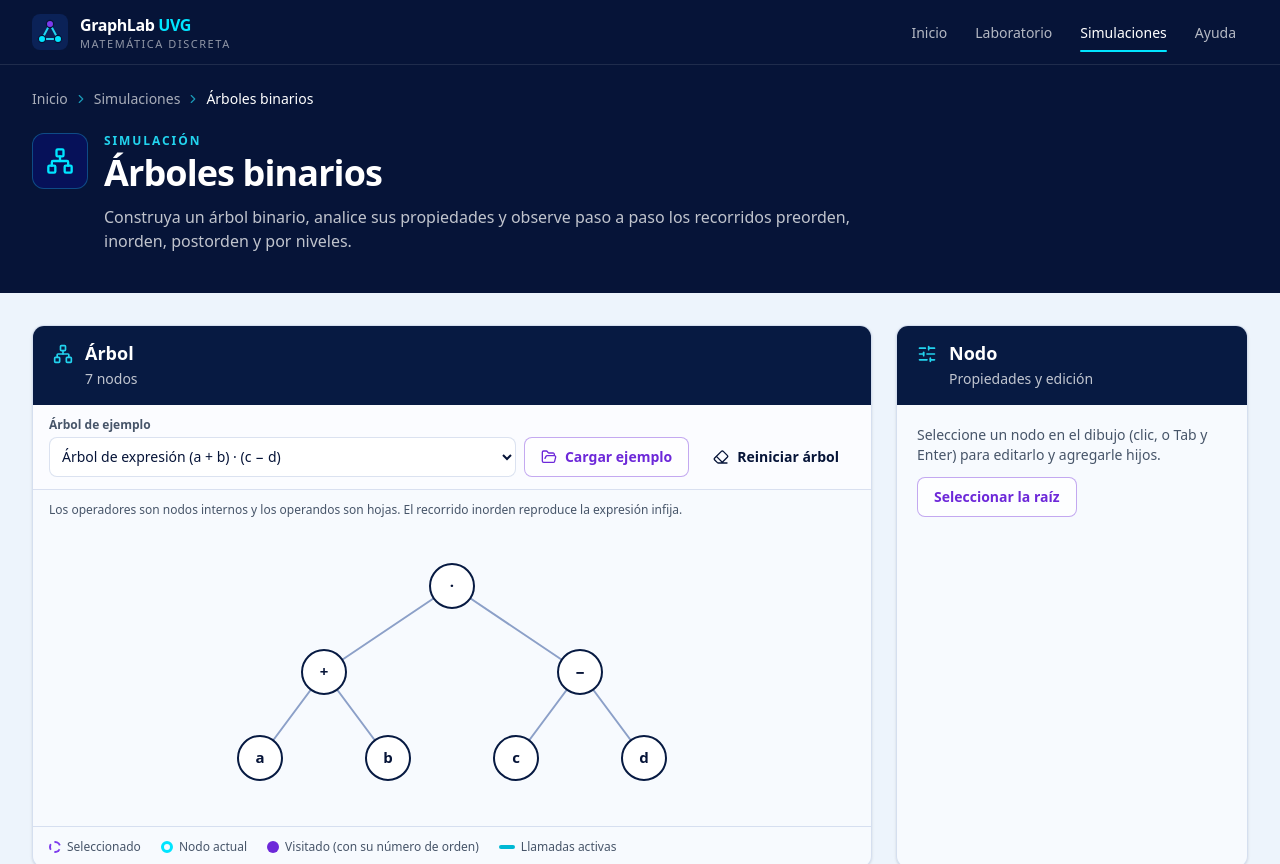
módulo de árboles binarios › reinicia el árbol tras confirmar y permite crear una raíz nueva
Later steps or results of the test are not shown.
expect the heading "Árboles binarios" is shown: met, box [104,148,382,197]
Click the button "Reiniciar árbol". click: (776, 456)
box: [697,436,855,476]
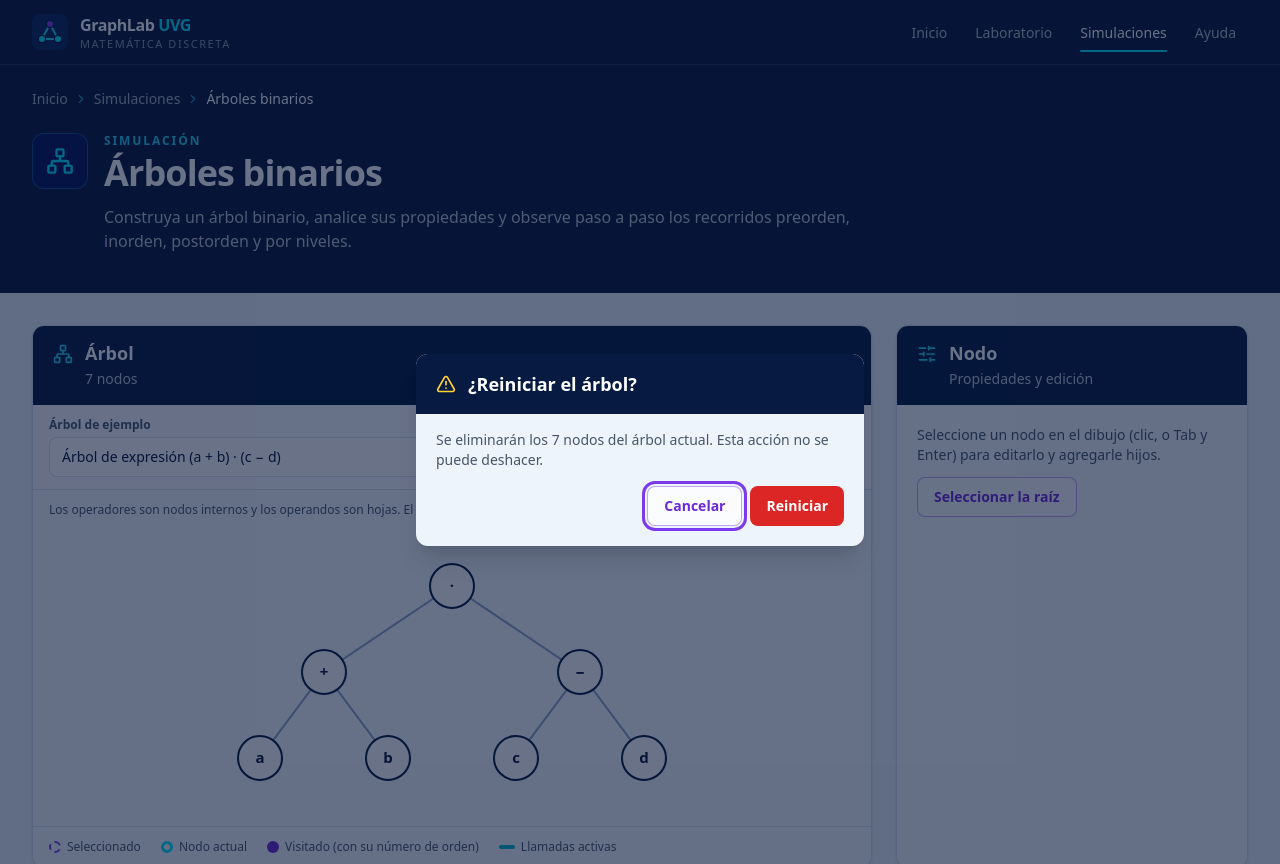
Click the button "Reiniciar". click: (797, 506)
box: [750,486,844,526]
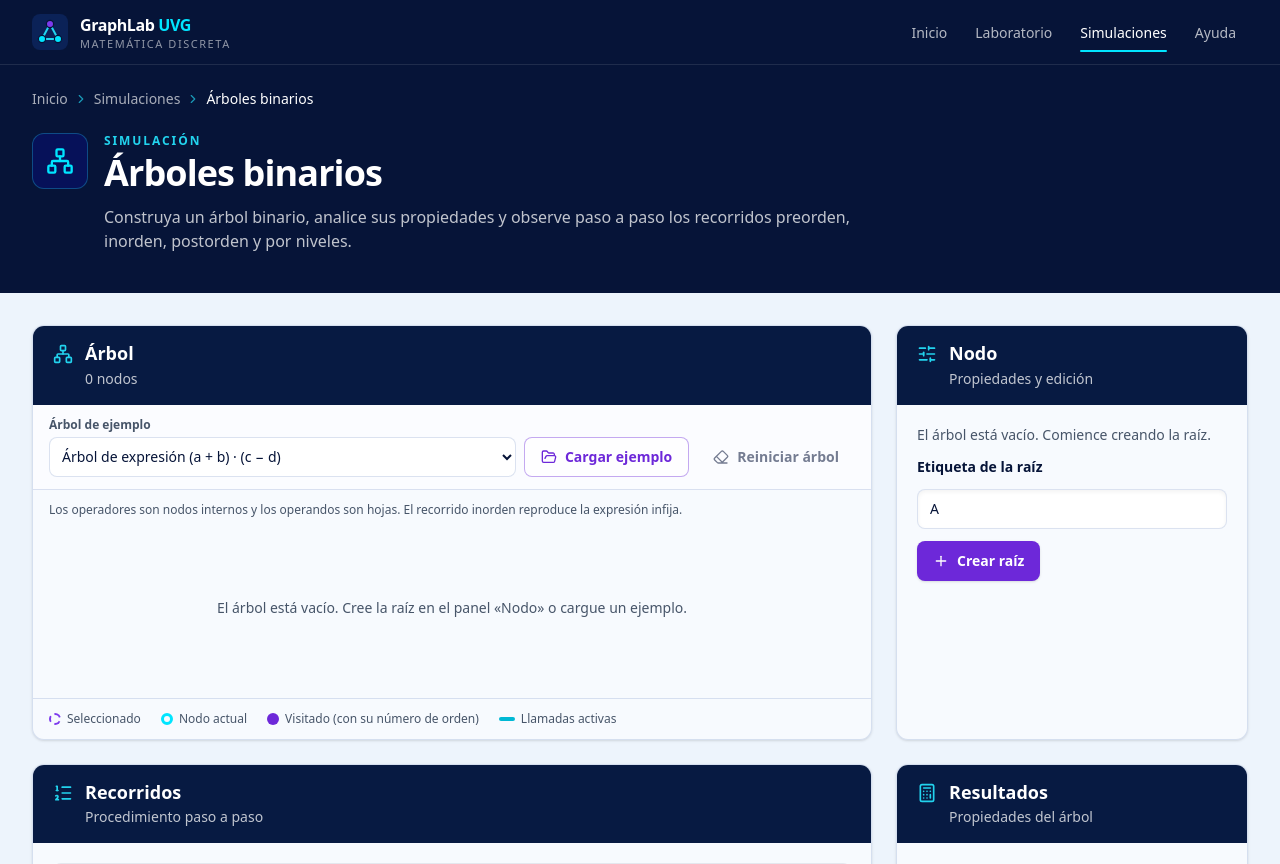
expect the text "El árbol está vacío" is shown: met, box [217,598,687,616]
